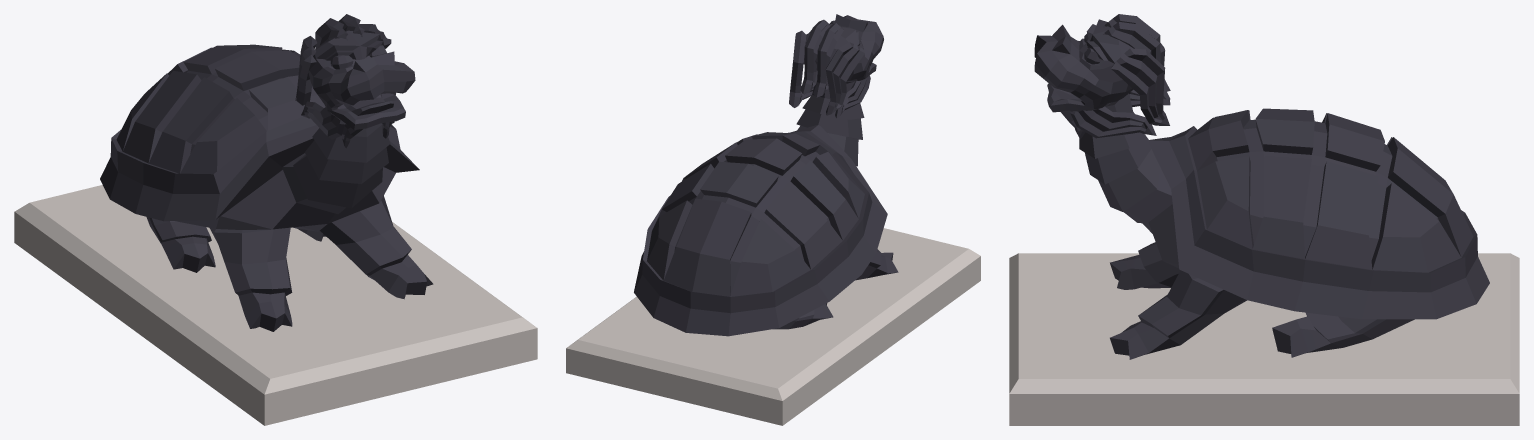
Rendered from SM_Sculpture_13.fbx.
3 views of the same model, side by side, from view 1: azimuth 30°, elevation 25°; view 2: azimuth 150°, elevation 25°; view 3: azimuth 270°, elevation 25° (orthographic). The views are drawn at different scales.
Visible parts, largest first — view 1: SM_Sculpture_13; view 2: SM_Sculpture_13; view 3: SM_Sculpture_13.
Boxes of the visible parts, x1=… form: SM_Sculpture_13: x1=14, y1=14, x2=537, y2=425; SM_Sculpture_13: x1=566, y1=14, x2=980, y2=425; SM_Sculpture_13: x1=1009, y1=14, x2=1519, y2=425.
Bounding box in the file's own units: 232 × 270 × 368.
